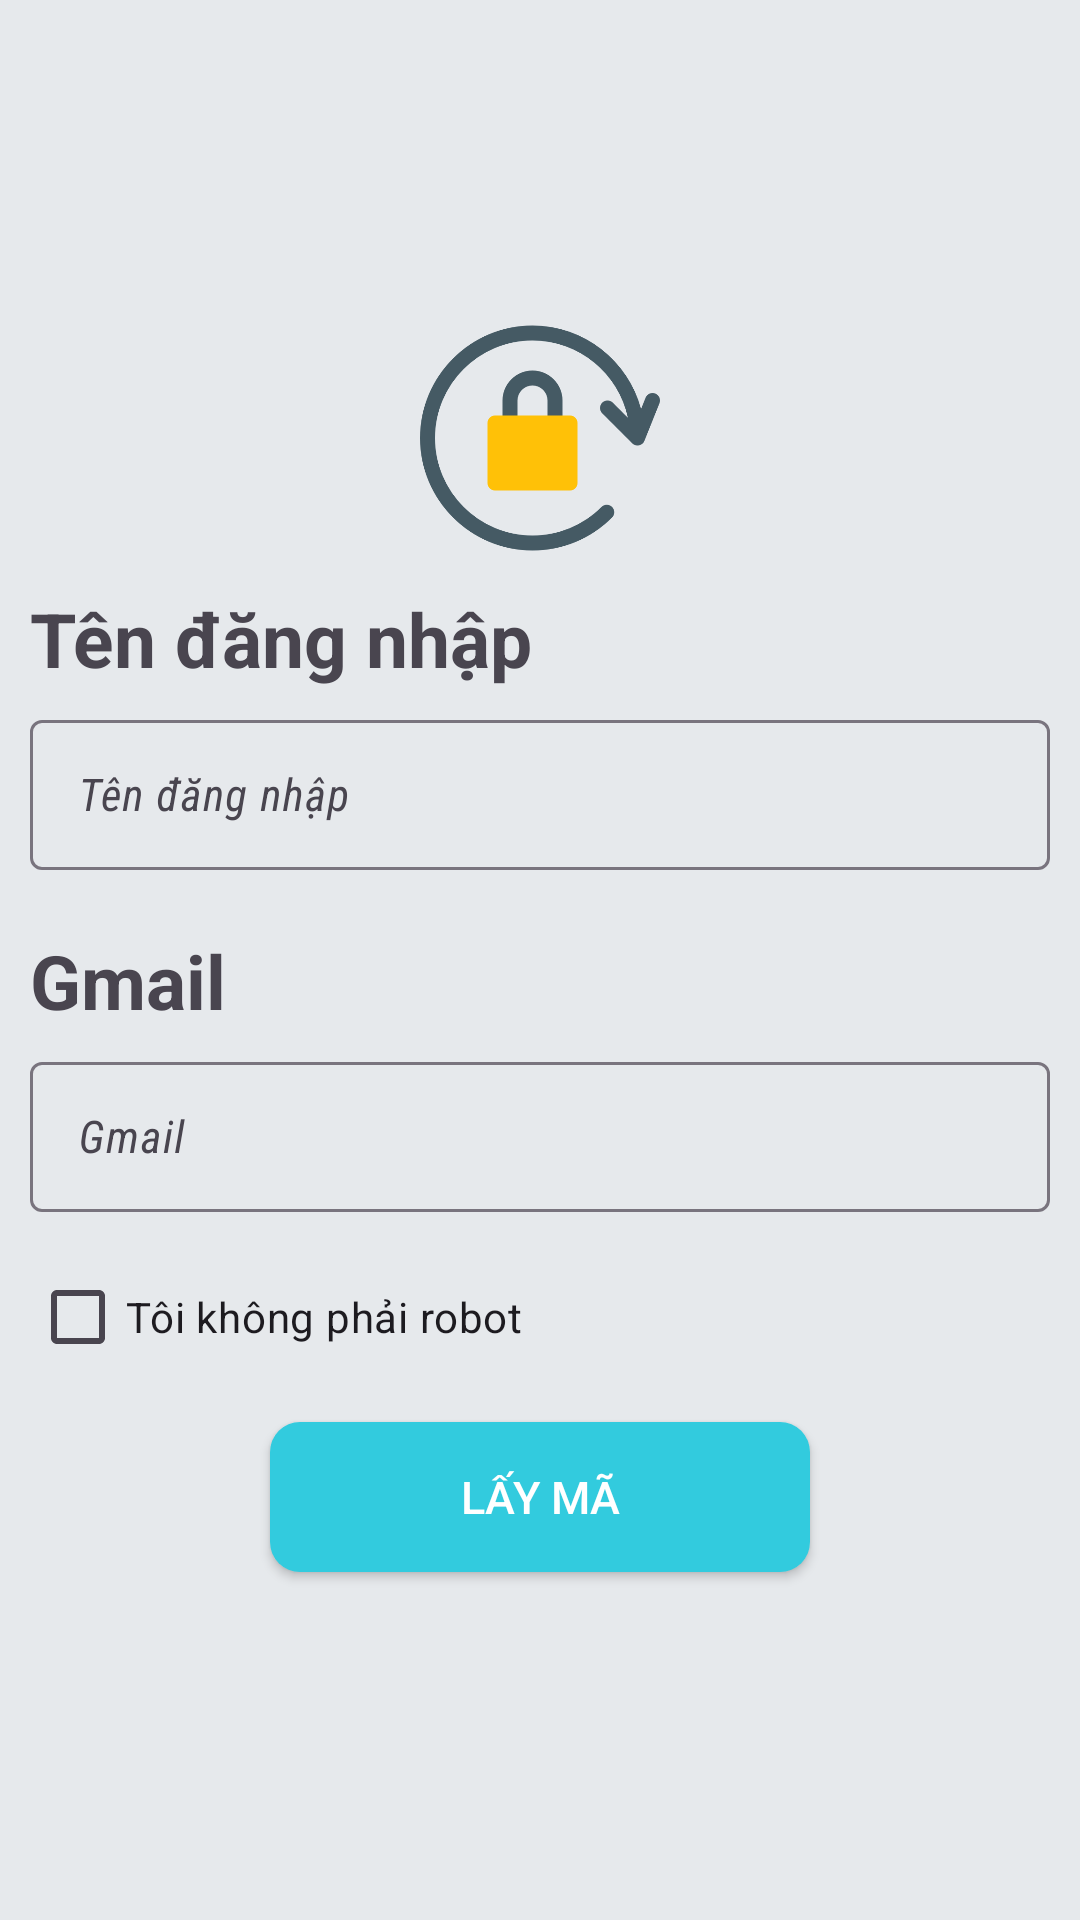

Icon click points for this 1080px x 1920px phone screenshot, format (x=x, y=y):
resetpass: (x=540, y=438)
